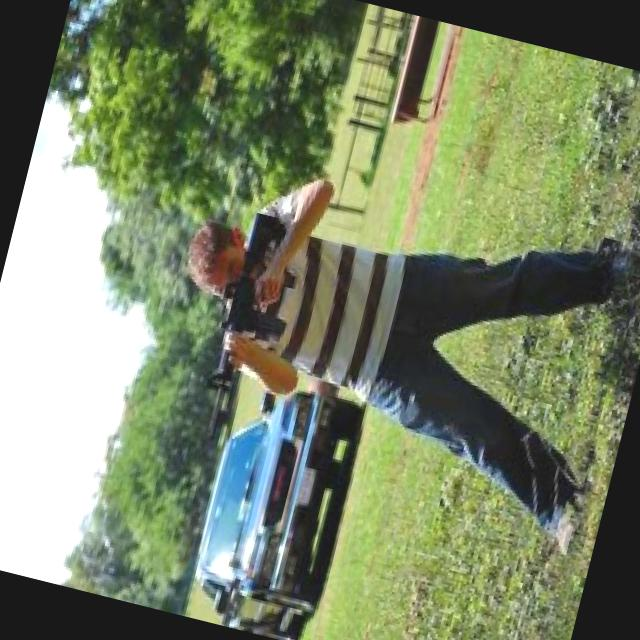long weapon: (192, 200, 308, 436)
